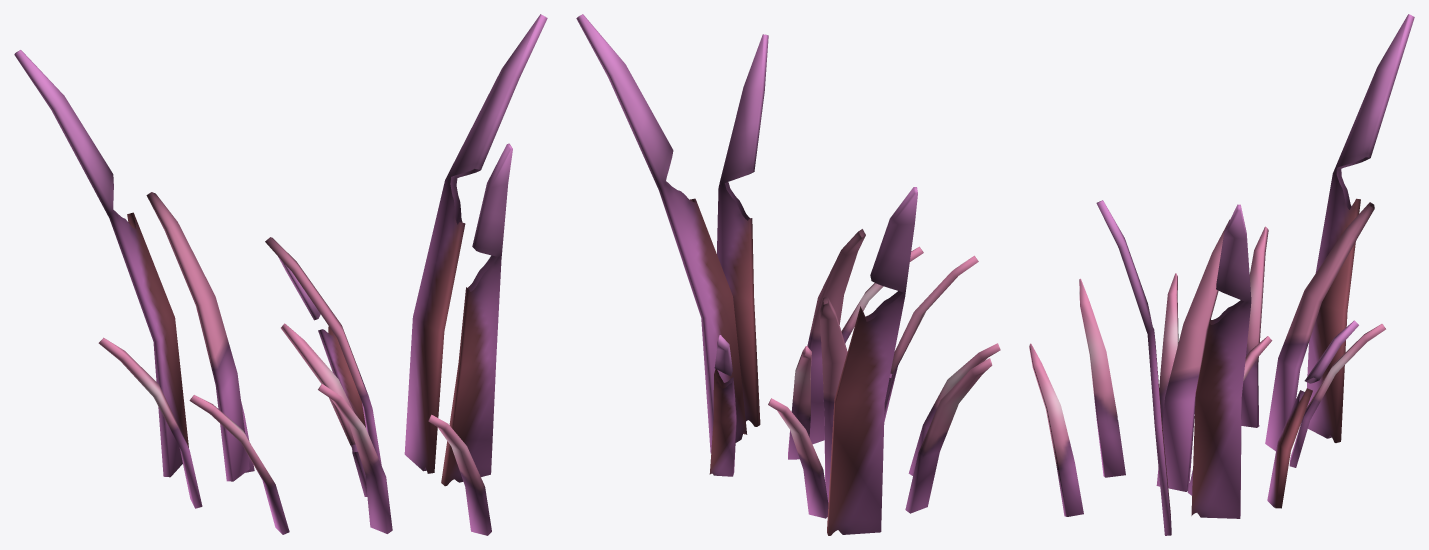
The model's file is grass_2_medium.fbx.
3 views of the same model, side by side, from view 1: azimuth 30°, elevation 25°; view 2: azimuth 150°, elevation 25°; view 3: azimuth 270°, elevation 25° (orthographic). The views are drawn at different scales.
Visible parts, largest first — view 1: grass_2_medium; view 2: grass_2_medium; view 3: grass_2_medium.
Boxes of the visible parts, x1=… form: grass_2_medium: x1=14, y1=14, x2=547, y2=535; grass_2_medium: x1=576, y1=14, x2=1000, y2=535; grass_2_medium: x1=1029, y1=14, x2=1414, y2=535.
Size of the model in its own units: 80.2 by 72.81 by 67.19.
